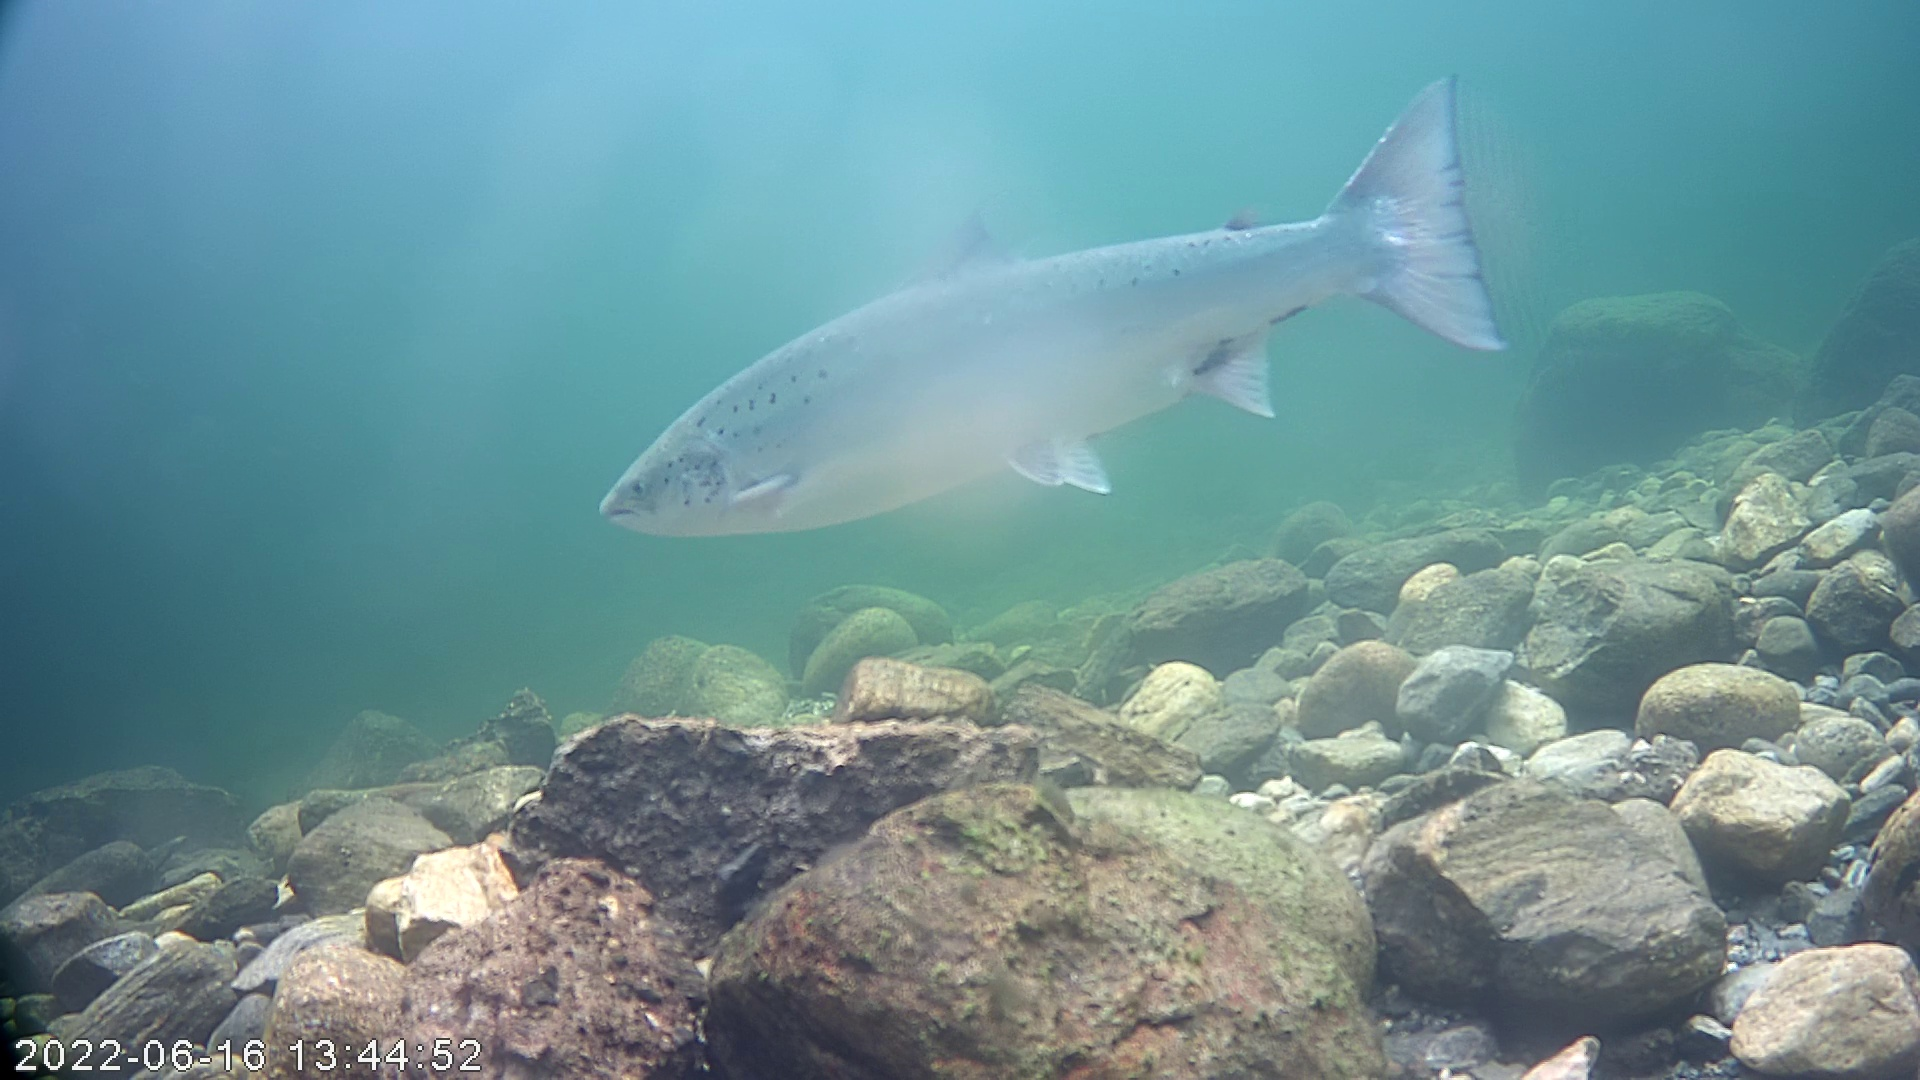salmon: (593, 67, 1510, 541)
